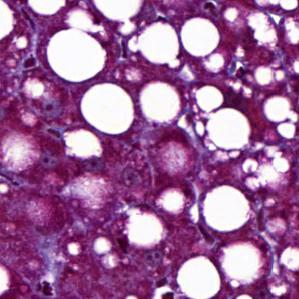inflammation: (224, 58, 257, 96)
